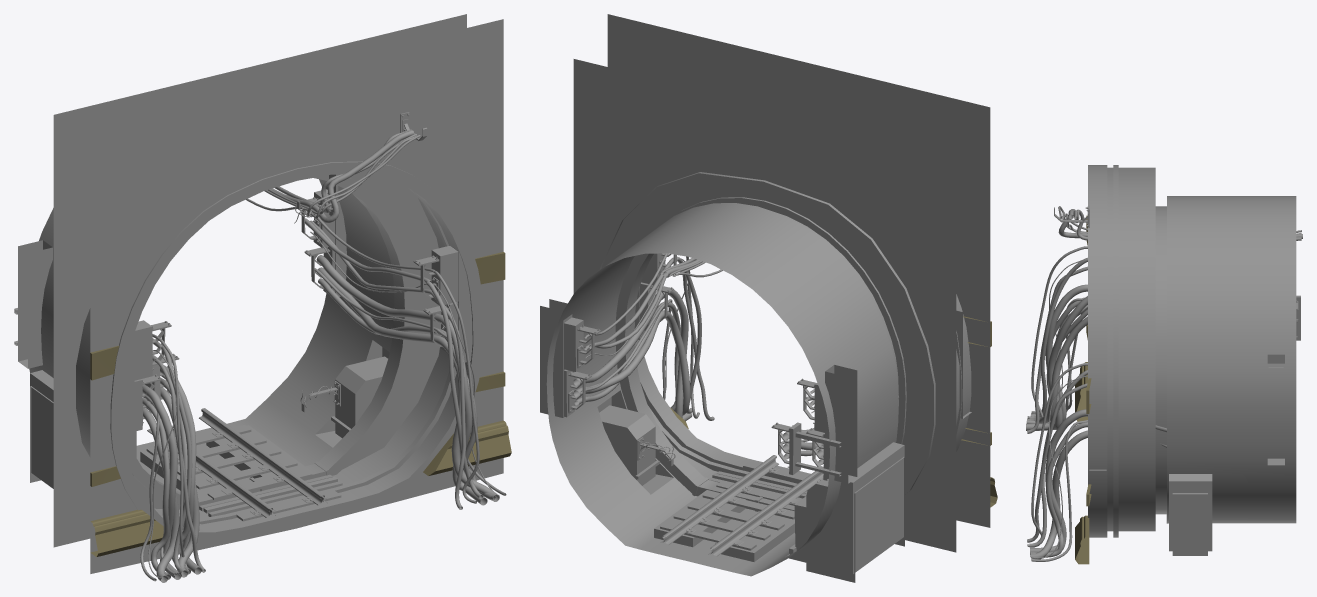
Rendered from metro tonnel entrance.FBX.
3 renders of one model, left to right at view 1: azimuth 30°, elevation 25°; view 2: azimuth 150°, elevation 25°; view 3: azimuth 270°, elevation 25°, orthographic. The views are drawn at different scales.
Parts seen in each view (by area): view 1: w, Group138, Line400, Shape004, Shape017, Line090rails001, Box279432, Box279431, Box279413, Shape024; view 2: Group138, w, Line400, Shape017, Line090rails001, Box279413, Shape004, Box279432, Shape024; view 3: Group138, w, Line400, Shape004, Shape017, Shape024, Box279431.
Part boxes in pixels (<box>): w: <box>76,19,511,573</box>; Group138: <box>29,14,466,547</box>; Line400: <box>14,186,506,582</box>; Shape004: <box>110,161,484,544</box>; Shape017: <box>124,174,415,507</box>; Line090rails001: <box>146,408,341,521</box>; Box279432: <box>140,425,342,516</box>; Box279431: <box>246,112,427,223</box>; Box279413: <box>30,356,387,482</box>; Shape024: <box>161,188,456,524</box>; Group138: <box>546,59,956,576</box>; w: <box>600,14,997,527</box>; Line400: <box>540,253,971,483</box>; Shape017: <box>615,197,906,511</box>; Line090rails001: <box>660,455,823,556</box>; Box279413: <box>599,405,904,582</box>; Shape004: <box>635,294,971,483</box>; Box279432: <box>654,471,807,561</box>; Shape024: <box>648,358,958,491</box>; Group138: <box>1167,196,1296,551</box>; w: <box>1075,167,1155,564</box>; Line400: <box>1026,246,1300,561</box>; Shape004: <box>1088,165,1107,537</box>; Shape017: <box>1155,206,1166,512</box>; Shape024: <box>1113,165,1118,537</box>; Box279431: <box>1054,205,1302,240</box>.
Size of the model in its own units: 8 by 8.72 by 5.35.
